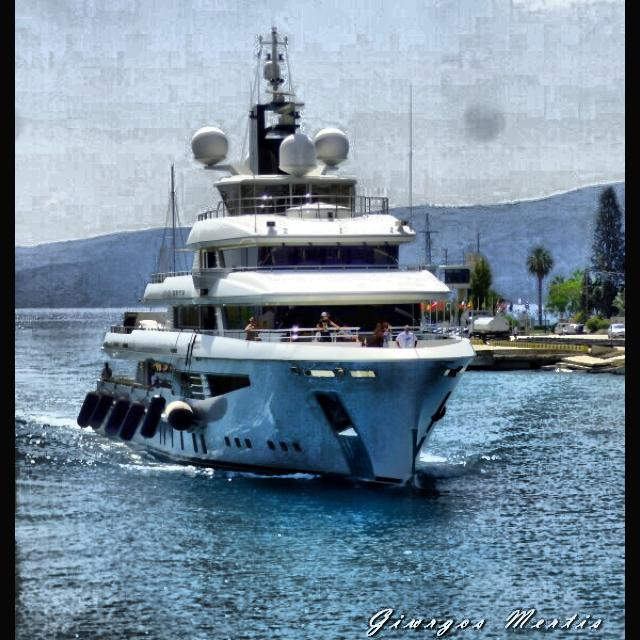yacht: (76, 23, 478, 491)
